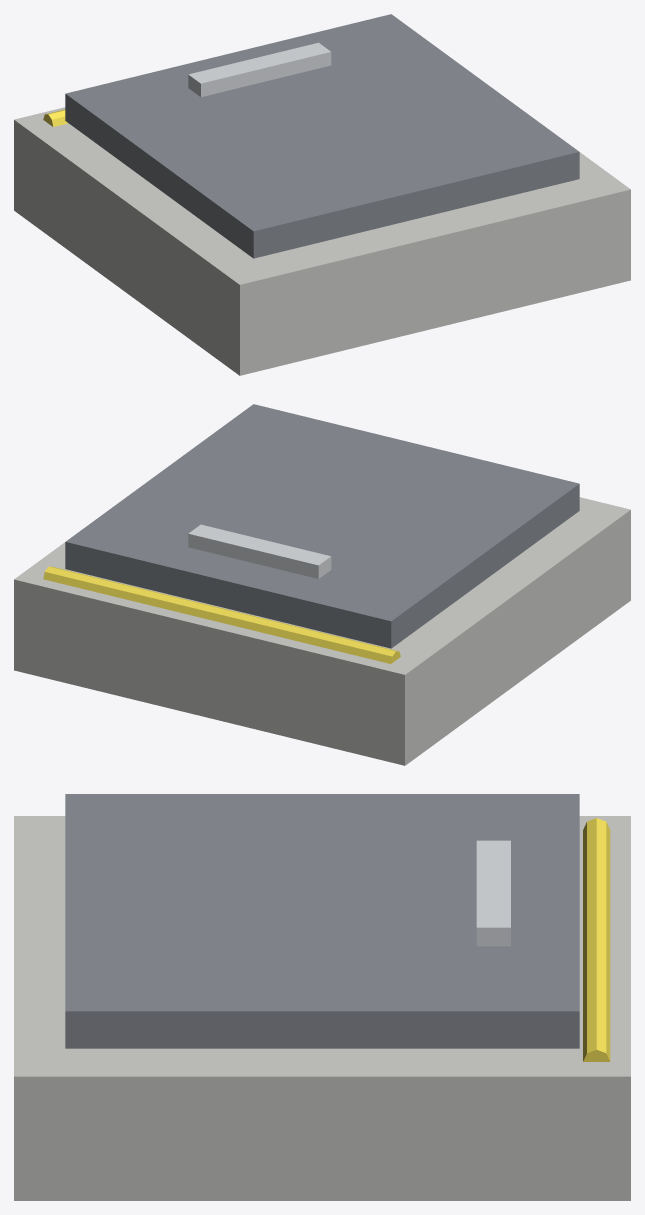
Rendered from storm_shelter.glb.
3 renders of one model, top to bottom at view 1: azimuth 30°, elevation 25°; view 2: azimuth 150°, elevation 25°; view 3: azimuth 270°, elevation 25°, orthographic. The views are drawn at different scales.
Visible parts, largest first — view 1: storm_shelter; view 2: storm_shelter; view 3: storm_shelter.
Boxes of the visible parts, left/top/right/bottom form: storm_shelter: left=14, top=14, right=630, bottom=375; storm_shelter: left=14, top=404, right=630, bottom=765; storm_shelter: left=14, top=794, right=630, bottom=1200.
Size of the model in its own units: 0.9 by 0.3 by 0.9.
